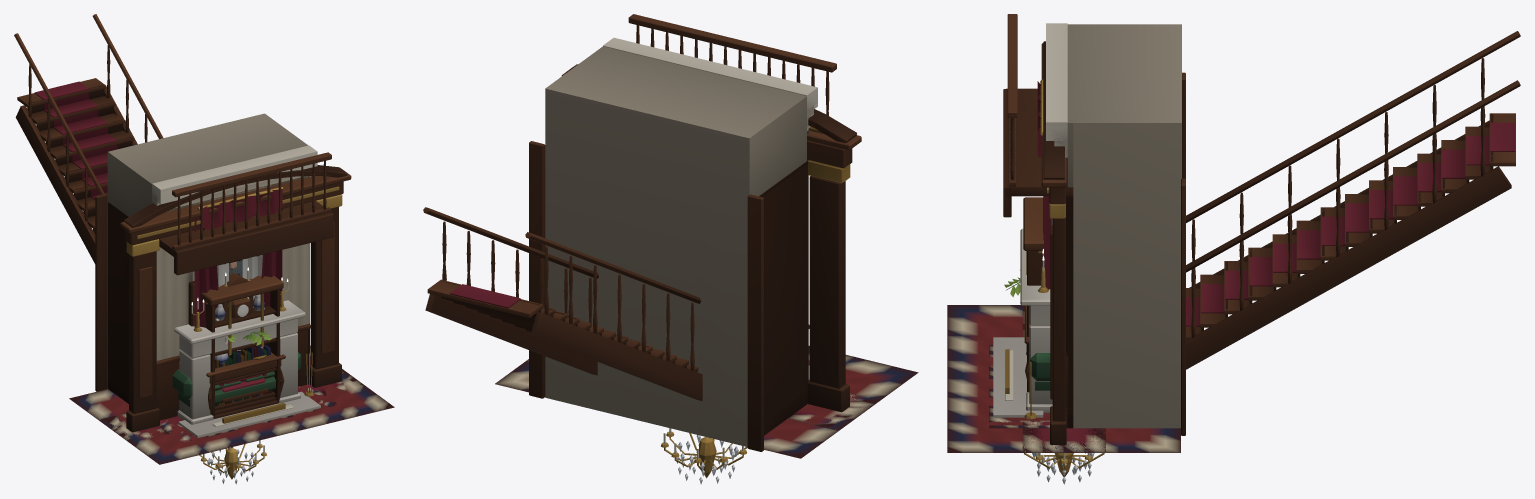
The model's file is viktorianisch.glb.
3 renders of one model, left to right at view 1: azimuth 30°, elevation 25°; view 2: azimuth 150°, elevation 25°; view 3: azimuth 270°, elevation 25°, orthographic. The views are drawn at different scales.
Visible parts, largest first — view 1: bogen2_holz, treppe1_holz, galerie1_holz, kamin1_stein, bogen1_holz, teppich1_stoff, vitrine1_holz, wand5_holz, konsole1_holz, sofa1_samt, kronleuchter1_messing, laeufer1_stoff (+3 smaller); view 2: bogen2_holz, bogen1_holz, wand5_holz, treppe1_holz, wand1_holz, teppich1_stoff, galerie1_holz, kronleuchter1_messing, laeufer1_stoff; view 3: treppe1_holz, bogen1_holz, bogen2_holz, teppich1_stoff, kamin1_stein, galerie1_holz, laeufer1_stoff, vitrine1_holz, wand5_holz, kronleuchter1_messing, teppich2_stoff, sofa1_samt.
Boxes of the visible parts, x1,y1,x2,y2 form: bogen2_holz: (95,114,351,432); treppe1_holz: (14,14,163,263); galerie1_holz: (159,152,333,275); kamin1_stein: (174,280,320,437); bogen1_holz: (107,113,317,418); teppich1_stoff: (69,345,394,464); vitrine1_holz: (201,275,283,418); wand5_holz: (192,124,282,347); konsole1_holz: (206,340,285,414); sofa1_samt: (172,352,301,406); kronleuchter1_messing: (199,440,266,484); laeufer1_stoff: (101,371,365,443); bogen2_holz: (529,37,861,451); bogen1_holz: (545,88,817,446); wand5_holz: (596,101,698,434); treppe1_holz: (423,207,702,401); wand1_holz: (596,101,697,434); teppich1_stoff: (495,346,918,458); galerie1_holz: (628,14,836,115); kronleuchter1_messing: (661,428,747,484); laeufer1_stoff: (788,393,880,430); treppe1_holz: (1186,31,1520,369); bogen1_holz: (1046,24,1181,428); bogen2_holz: (1041,23,1185,444); teppich1_stoff: (947,305,1180,452); kamin1_stein: (993,228,1052,419); galerie1_holz: (1003,14,1073,217); laeufer1_stoff: (1022,306,1105,452); vitrine1_holz: (1023,197,1043,392); wand5_holz: (1037,71,1181,289); kronleuchter1_messing: (1024,453,1104,484); teppich2_stoff: (989,344,1049,428); sofa1_samt: (1030,353,1050,390).
Bounding box in the file's own units: 4.2 × 5.58 × 6.87.
